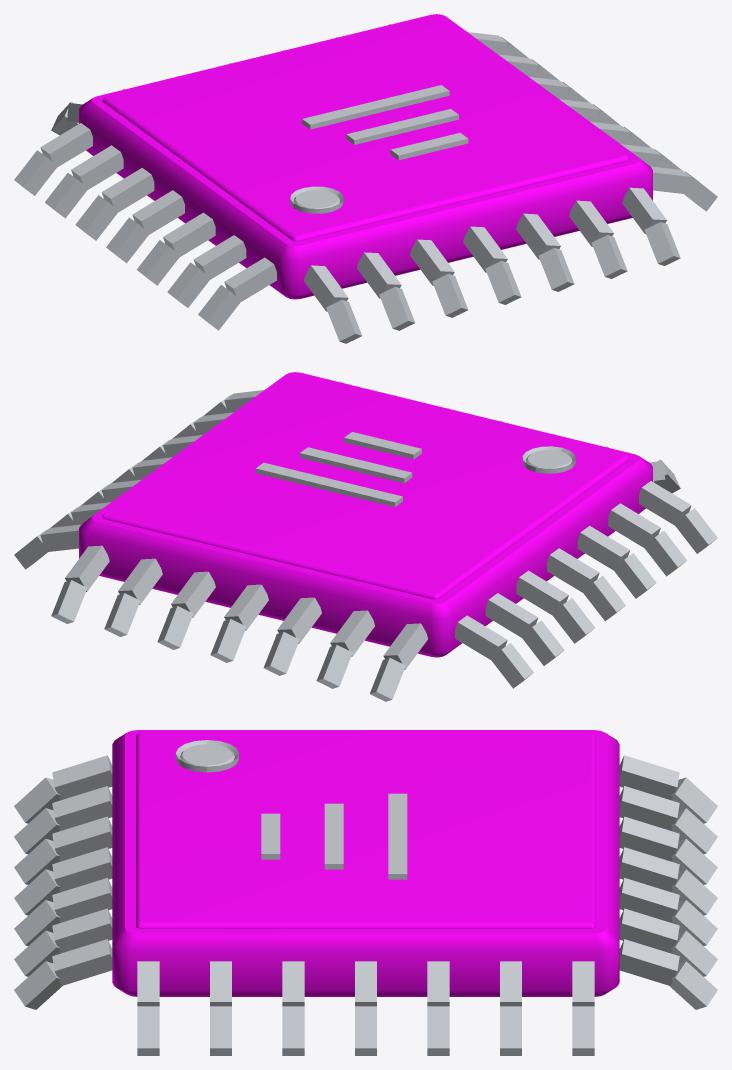
File: objet_microcontroleur.glb
3 renders of one model, top to bottom at view 1: azimuth 30°, elevation 25°; view 2: azimuth 150°, elevation 25°; view 3: azimuth 270°, elevation 25°, orthographic. The views are drawn at different scales.
Visible parts, largest first — view 1: puce_teinte.002, puce_composant_clair.002; view 2: puce_teinte.002, puce_composant_clair.002; view 3: puce_teinte.002, puce_composant_clair.002.
Part boxes in pixels (box(x1,y1,x2,y2)): puce_teinte.002: box(79, 14, 652, 299); puce_composant_clair.002: box(14, 24, 717, 343); puce_teinte.002: box(79, 372, 652, 657); puce_composant_clair.002: box(14, 382, 717, 701); puce_teinte.002: box(112, 730, 619, 996); puce_composant_clair.002: box(14, 740, 717, 1055).
Size of the model in its own units: 0.2199 by 0.034 by 0.222.
